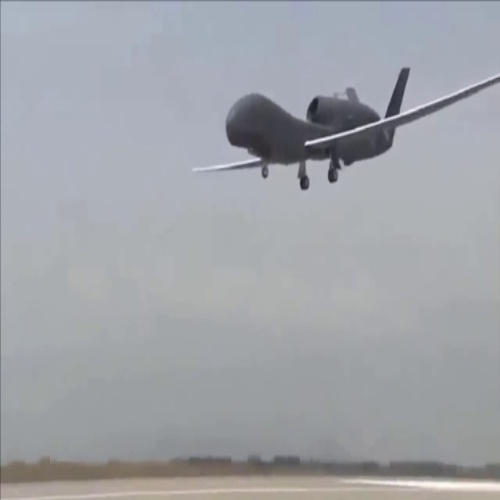uav: (186, 63, 500, 192)
